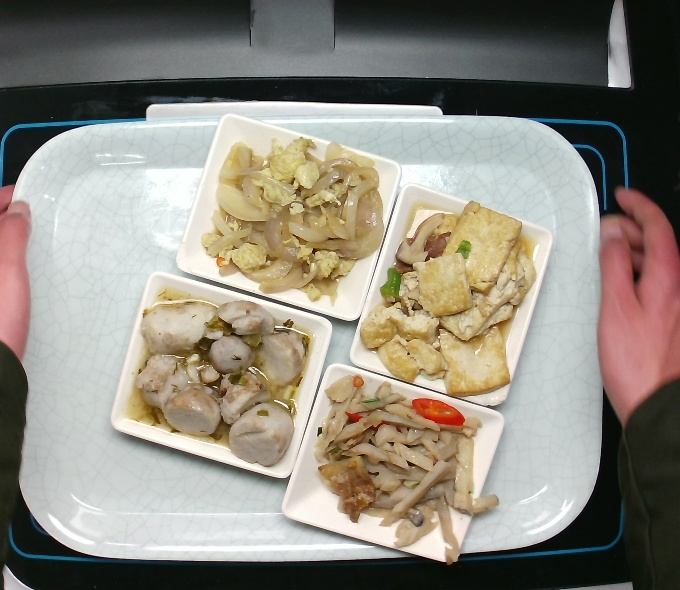wcq-JiaChangDouFu: (352, 198, 540, 403)
wcq-QingChaoOuPian: (315, 372, 505, 569)
wcq-YangCongChaoDan: (190, 122, 390, 306)
wcq-YangYu: (133, 286, 318, 466)
